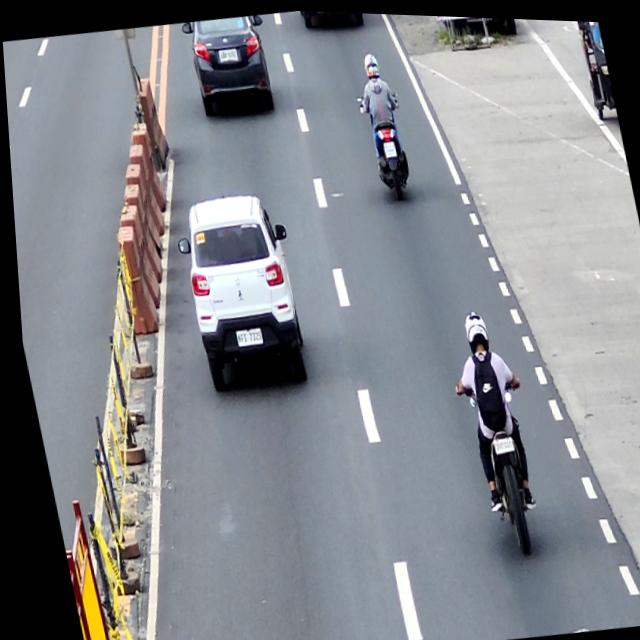Car: (165, 186, 313, 393), (179, 10, 281, 120)
License-Plate: (231, 326, 259, 345), (488, 434, 508, 450), (217, 47, 238, 62), (381, 138, 395, 155)
Motorcycle: (450, 370, 545, 557), (356, 88, 418, 203)
